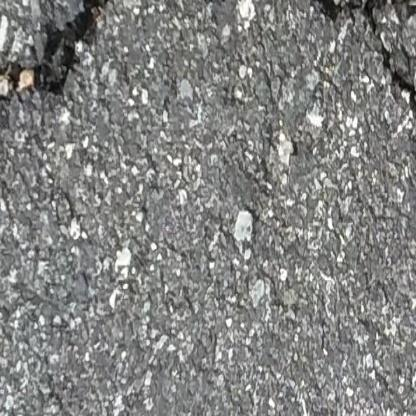Cracks: (187, 0, 416, 159), (0, 0, 150, 128)
